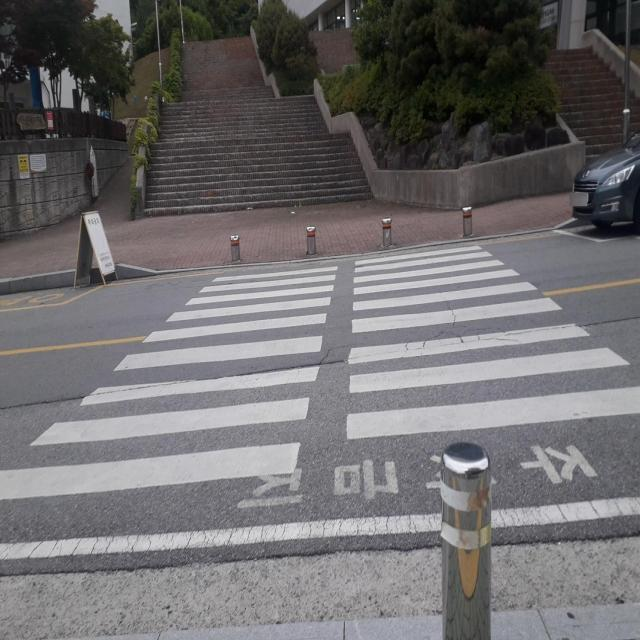횡단보도: (0, 235, 639, 505)
